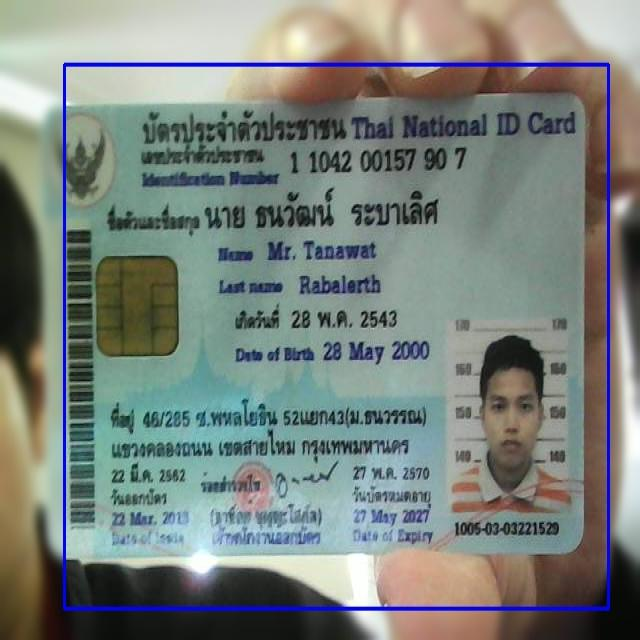Address_th: (107, 392, 436, 468)
Date_of_Birth: (318, 333, 435, 368)
Date_of_Expiry: (350, 505, 438, 528)
Date_of_Issue: (108, 505, 194, 535)
First_Name: (264, 235, 379, 266)
ID_Number: (285, 144, 471, 176)
Image: (446, 316, 573, 514)
Last_Name: (296, 269, 387, 300)
Thai_Name: (199, 182, 451, 237)
